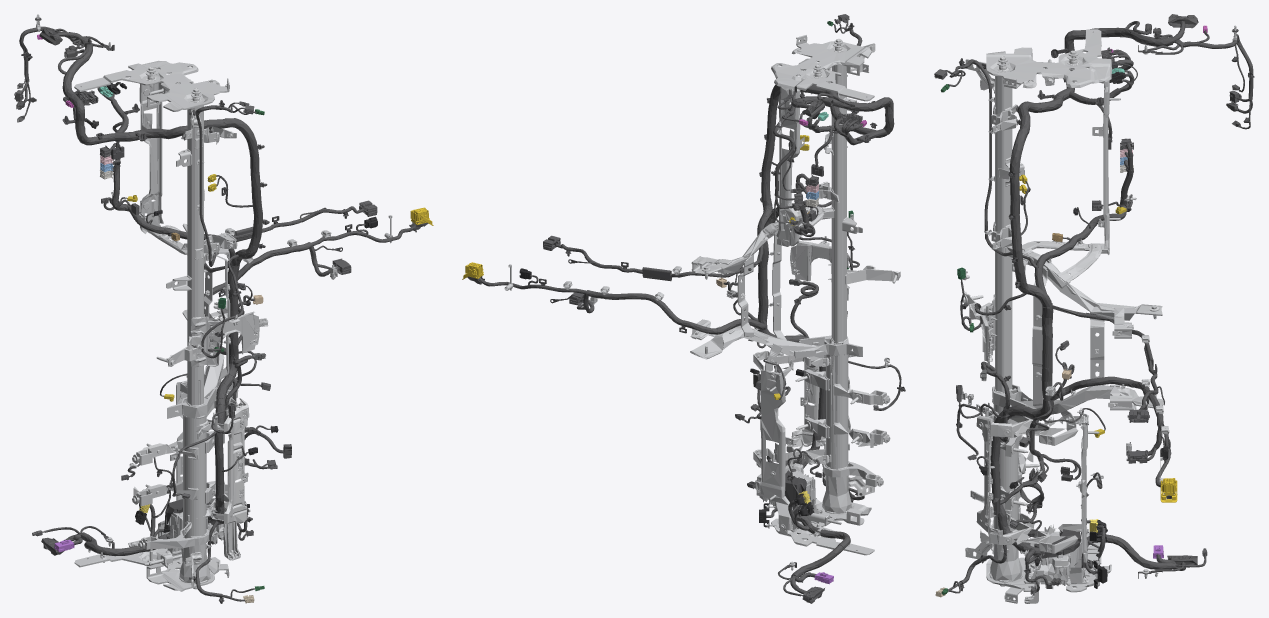
The model's file is harness.glb.
3 views of the same model, side by side, from view 1: azimuth 30°, elevation 25°; view 2: azimuth 150°, elevation 25°; view 3: azimuth 270°, elevation 25° (orthographic). The views are drawn at different scales.
Parts seen in each view (by area): view 1: beam, wire, harness; view 2: beam, wire, harness; view 3: beam, wire, harness.
Part boxes in pixels (x1,y1,x2,y2): beam: (74,60,259,591); wire: (16,17,428,601); harness: (14,14,433,603); beam: (690,35,900,555); wire: (467,18,901,603); harness: (462,14,905,599); beam: (962,29,1165,603); wire: (945,14,1253,593); harness: (934,25,1254,603).
Size of the model in its own units: 1.18 by 1.45 by 0.7681.
